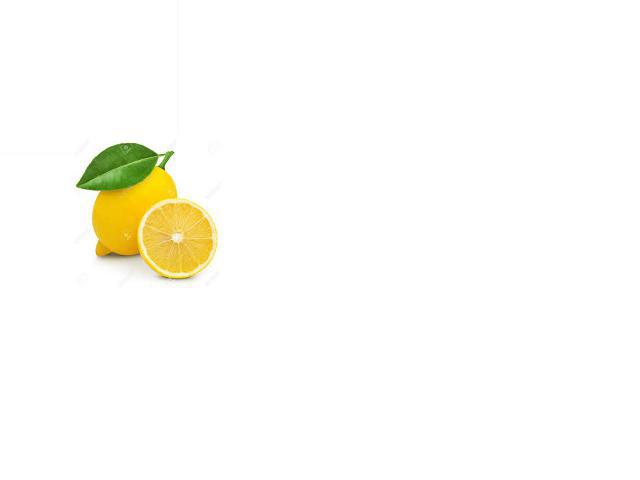lemon: (89, 153, 181, 268)
